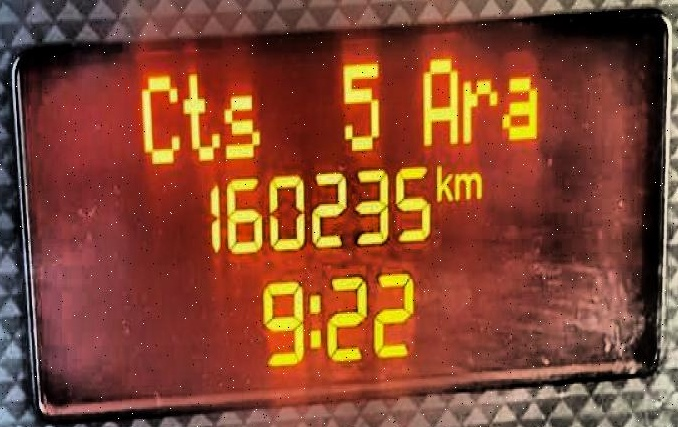0: (264, 172, 307, 253)
1: (203, 177, 222, 257)
2: (372, 267, 416, 360), (324, 272, 367, 362), (308, 169, 345, 250)
3: (352, 163, 389, 247)
5: (335, 55, 383, 152), (393, 160, 429, 245)
6: (224, 172, 261, 257)
9: (258, 275, 303, 370)
X: (135, 64, 180, 169), (416, 45, 459, 147), (179, 69, 220, 164), (221, 85, 264, 164), (502, 69, 542, 144), (460, 70, 498, 147), (307, 282, 322, 357), (454, 167, 483, 202), (431, 155, 452, 202)
